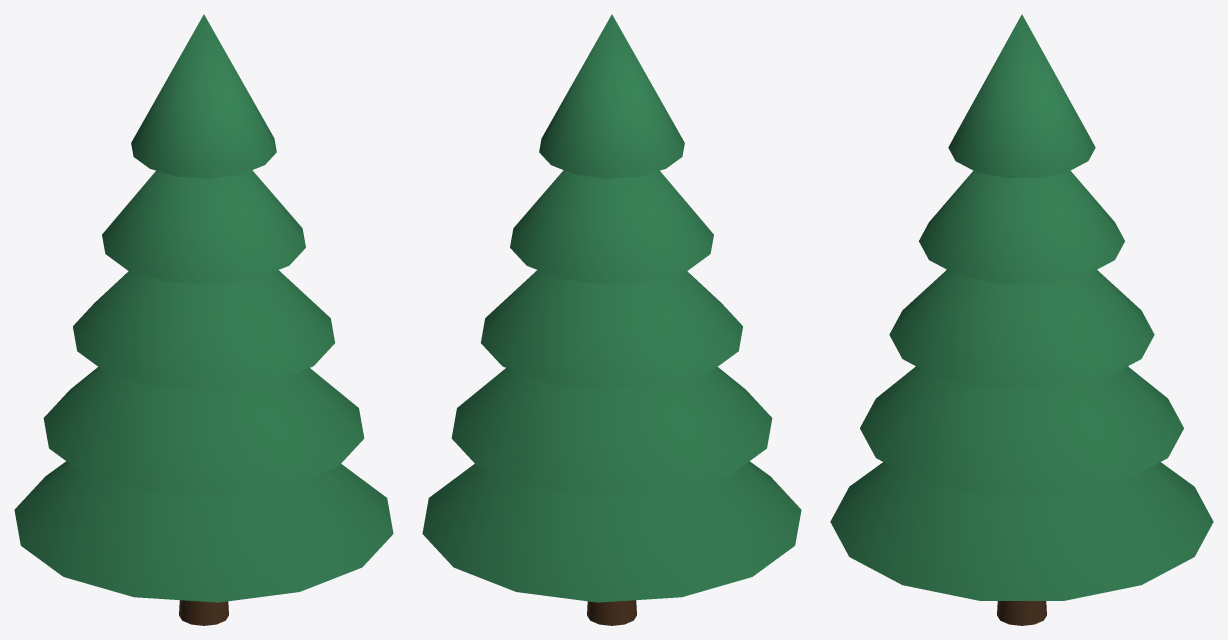
File: forest-pine.glb
3 renders of one model, left to right at view 1: azimuth 30°, elevation 25°; view 2: azimuth 150°, elevation 25°; view 3: azimuth 270°, elevation 25°, orthographic.
Parts seen in each view (by area): view 1: canopy_mesh, root_mesh; view 2: canopy_mesh, root_mesh; view 3: canopy_mesh, root_mesh.
Part boxes in pixels (left/top/right/bottom): canopy_mesh: left=14, top=14, right=393, bottom=602; root_mesh: left=179, top=600, right=228, bottom=625; canopy_mesh: left=422, top=14, right=801, bottom=602; root_mesh: left=587, top=600, right=636, bottom=625; canopy_mesh: left=830, top=14, right=1213, bottom=600; root_mesh: left=997, top=601, right=1046, bottom=625.
Bounding box in the file's own units: 2.53 × 4.5 × 2.6.
